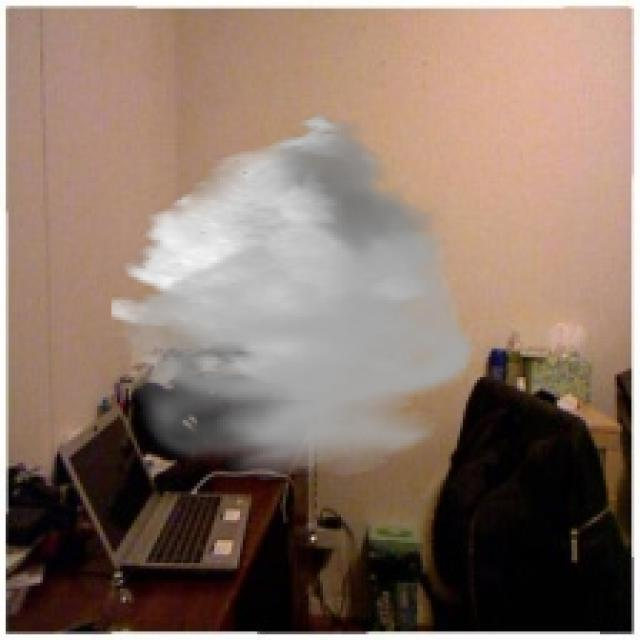Smoke: (111, 111, 480, 480)
